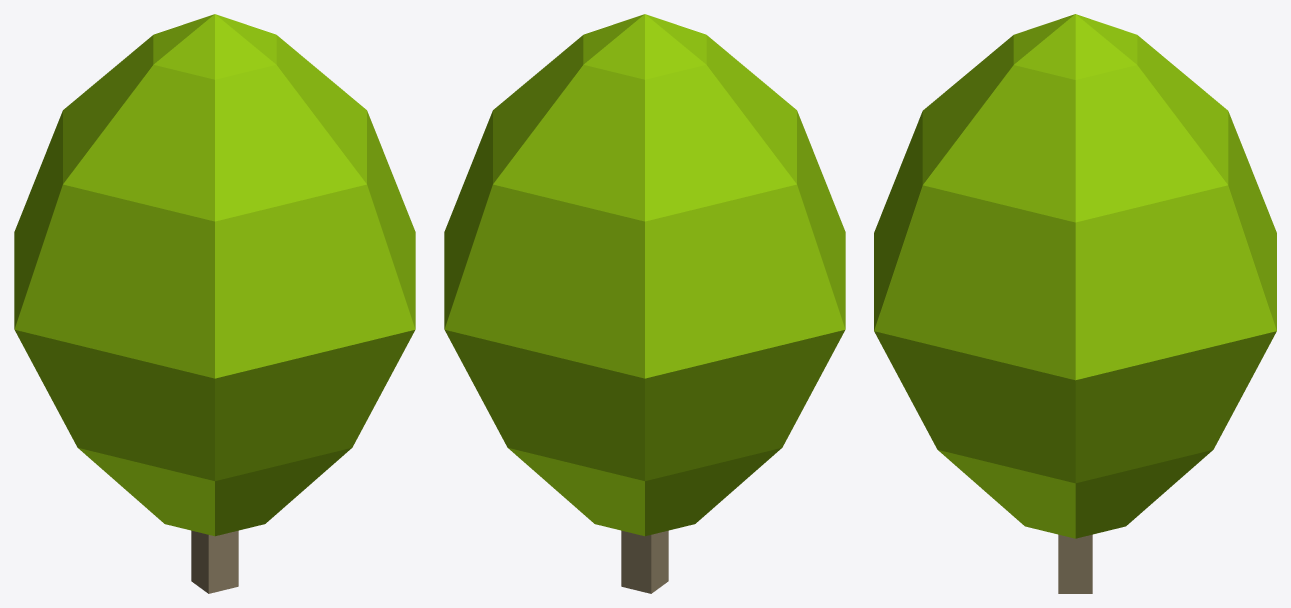
The model's file is tree_spheric_1.fbx.
The picture shows the model from 3 angles, left to right: view 1: azimuth 30°, elevation 25°; view 2: azimuth 150°, elevation 25°; view 3: azimuth 270°, elevation 25°; orthographic projection.
Parts seen in each view (by area): view 1: tree_spheric_1; view 2: tree_spheric_1; view 3: tree_spheric_1.
Boxes of the visible parts, left/top/right/bottom form: tree_spheric_1: left=14, top=14, right=415, bottom=593; tree_spheric_1: left=444, top=14, right=845, bottom=593; tree_spheric_1: left=874, top=14, right=1276, bottom=593.
Bounding box in the file's own units: 165 × 225 × 143.
